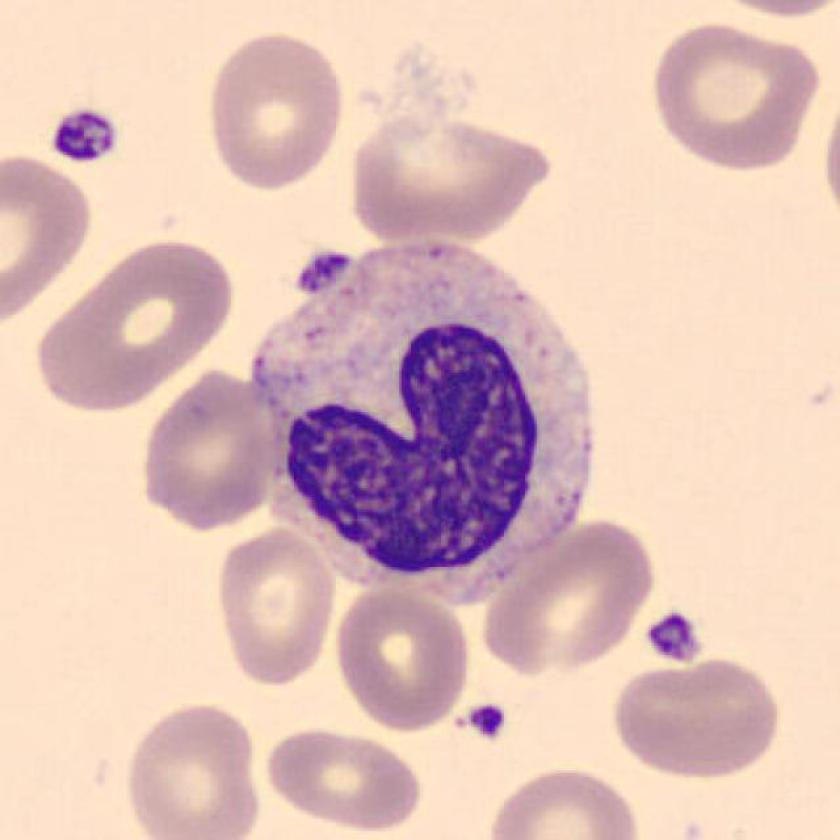neutrophil: (249, 241, 596, 610)
